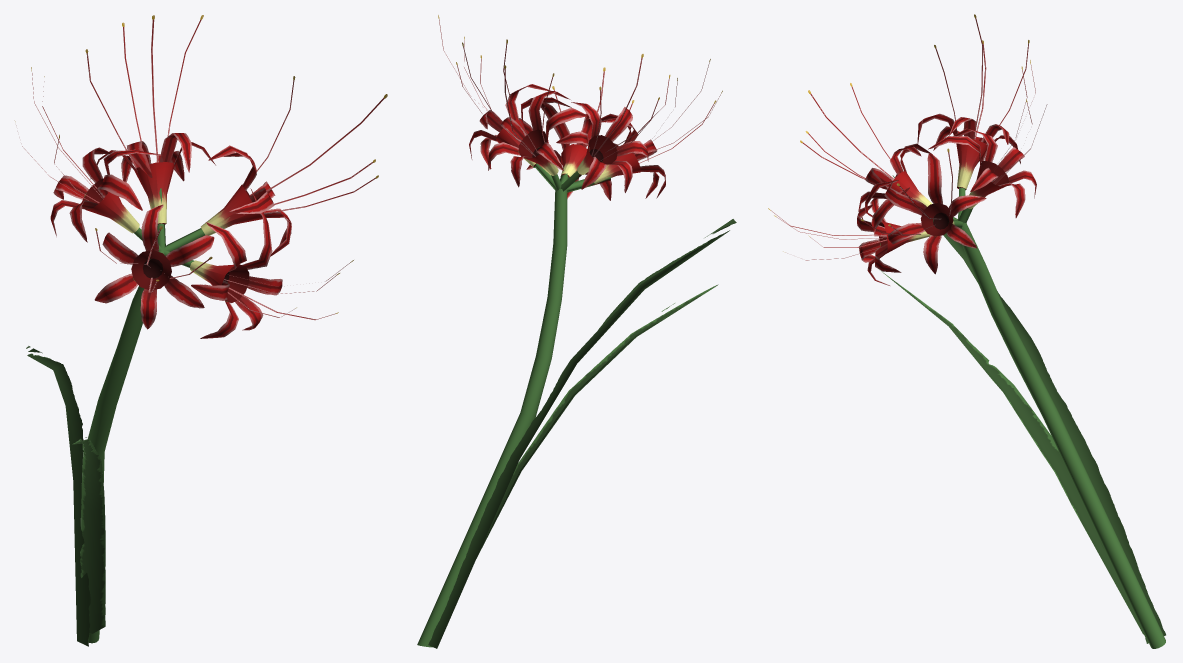
The model's file is Flowers.fbx.
The picture shows the model from 3 angles, left to right: view 1: azimuth 30°, elevation 25°; view 2: azimuth 150°, elevation 25°; view 3: azimuth 270°, elevation 25°; orthographic projection. The views are drawn at different scales.
Visible parts, largest first — view 1: Uchujin_Main2; view 2: Uchujin_Main2; view 3: Uchujin_Main2.
Part boxes in pixels (box(x1,y1,x2,y2)): Uchujin_Main2: box(14, 15, 387, 646); Uchujin_Main2: box(417, 15, 736, 648); Uchujin_Main2: box(768, 14, 1165, 648).
Size of the model in its own units: 8.94 by 16.15 by 10.22.
Materials: 1 (1 with a texture image).
